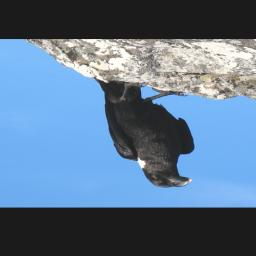Crow: (92, 76, 197, 190)
